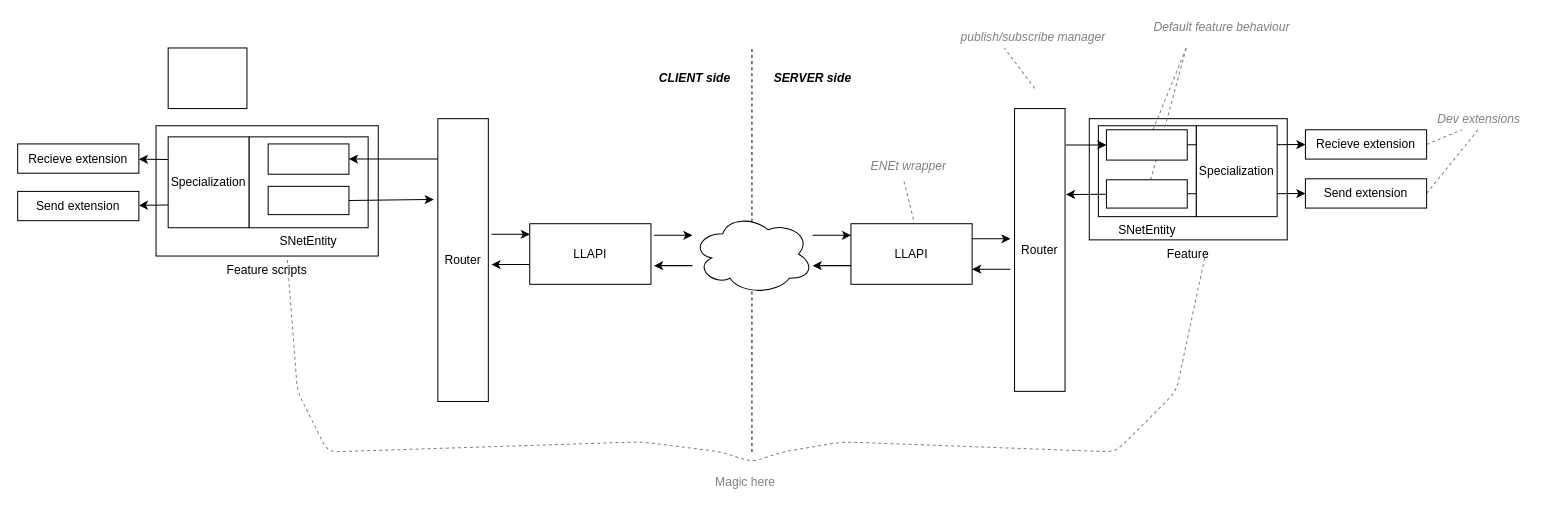
Some shapes in this 1554 by 509 pixel diagram are drawn without their labels. Here are the shapes that lost their labels. From the top down, the centre of each, then its label:
point 207,78: Editor
point 308,158: From Server
point 1146,144: From Client
point 308,200: To Server
point 1146,193: To Client
